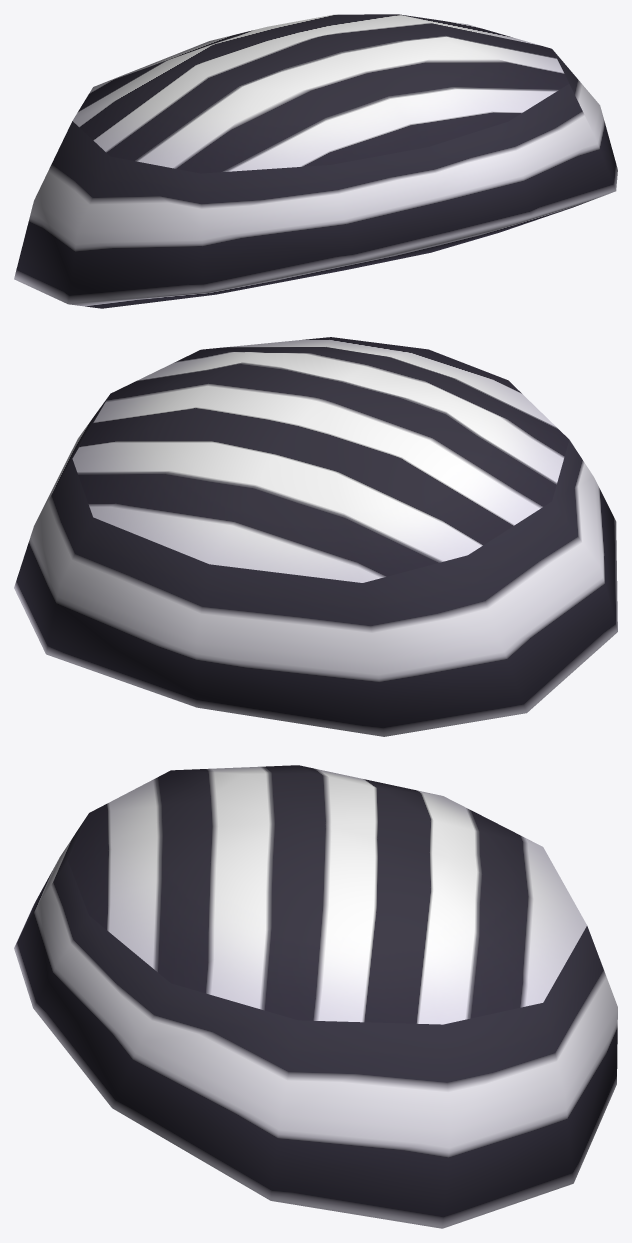
File: animal_pr_hat_a.fbx
The picture shows the model from 3 angles, top to bottom: view 1: azimuth 30°, elevation 25°; view 2: azimuth 150°, elevation 25°; view 3: azimuth 270°, elevation 25°; orthographic projection. The views are drawn at different scales.
Visible parts, largest first — view 1: animal_pr_hat_a_mesh; view 2: animal_pr_hat_a_mesh; view 3: animal_pr_hat_a_mesh.
Part boxes in pixels (x1,y1,x2,y2): animal_pr_hat_a_mesh: (14, 14, 617, 308); animal_pr_hat_a_mesh: (14, 337, 617, 736); animal_pr_hat_a_mesh: (14, 765, 617, 1228).
Size of the model in its own units: 32.94 by 13.08 by 26.45.
